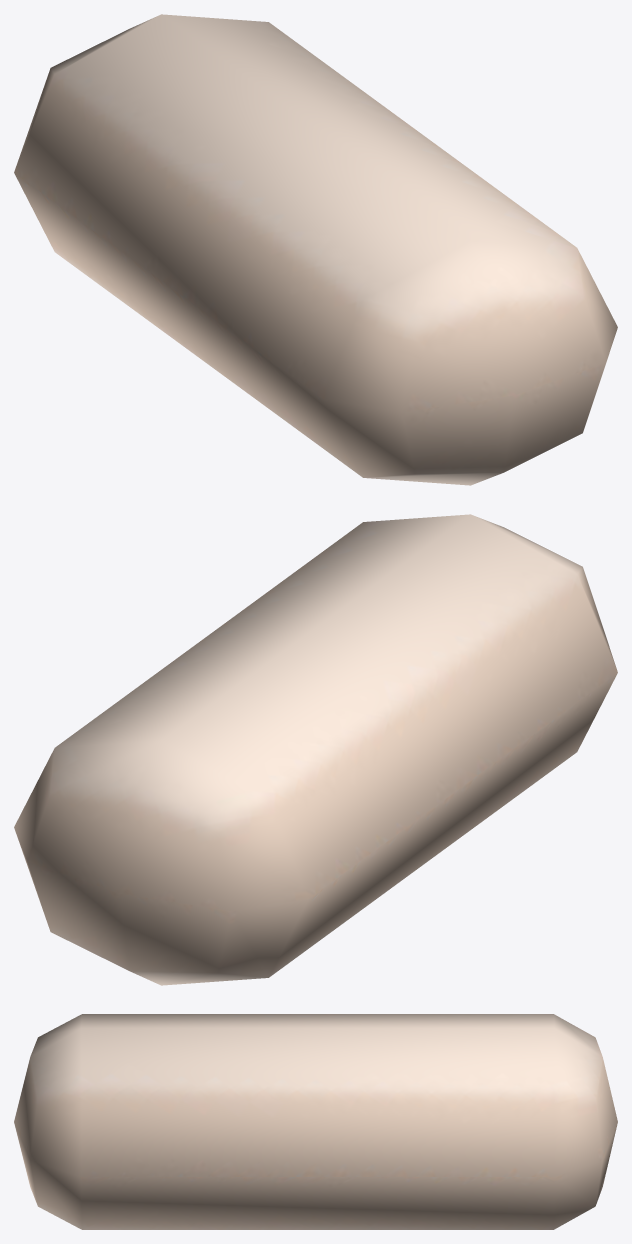
File: BobbinWall_canh.fbx
The picture shows the model from 3 angles, top to bottom: view 1: azimuth 30°, elevation 25°; view 2: azimuth 150°, elevation 25°; view 3: azimuth 270°, elevation 25°; orthographic projection. The views are drawn at different scales.
Visible parts, largest first — view 1: BobbinWall_3; view 2: BobbinWall_3; view 3: BobbinWall_3.
Boxes of the visible parts, x1=… form: BobbinWall_3: x1=14, y1=14, x2=617, y2=485; BobbinWall_3: x1=14, y1=514, x2=617, y2=985; BobbinWall_3: x1=14, y1=1014, x2=617, y2=1229.
Bounding box in the file's own units: 2.34 × 1.86 × 5.44.
